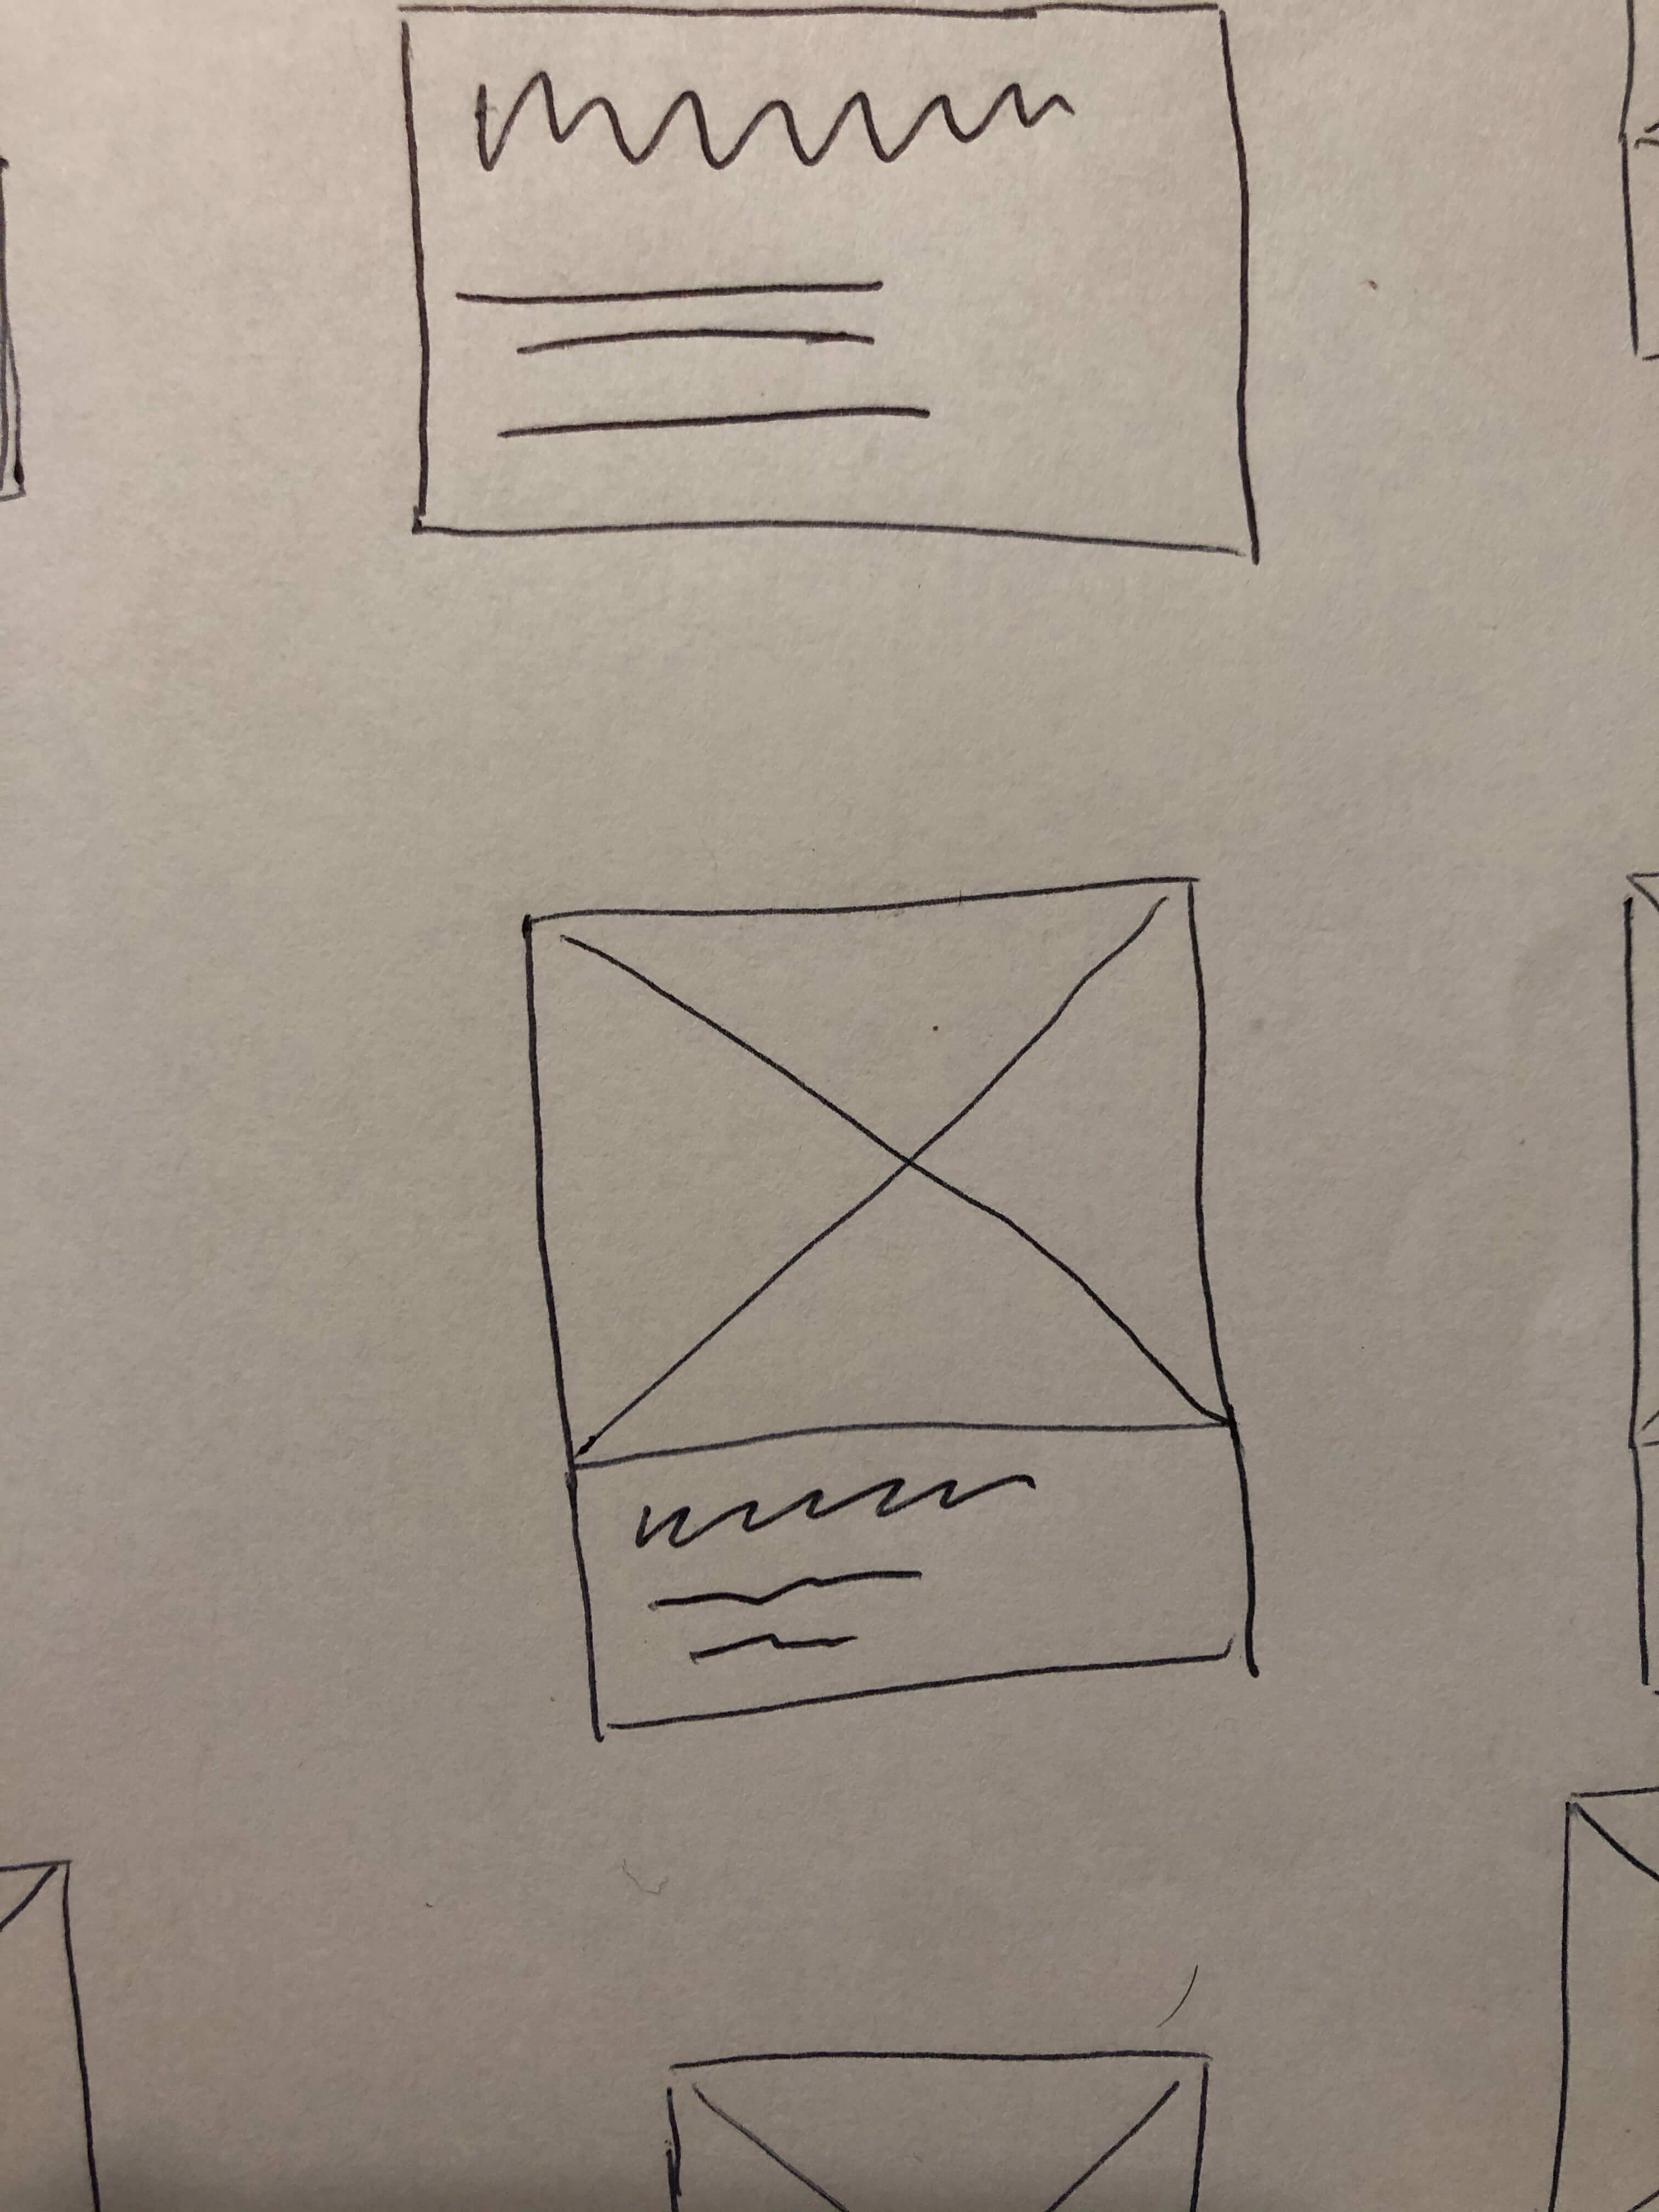card: (495, 859, 1298, 1757)
